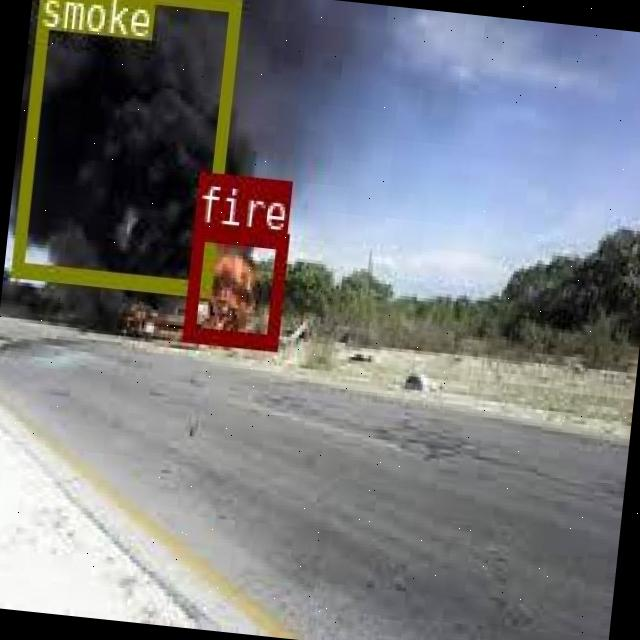fire: (182, 223, 284, 346)
smoke: (8, 0, 239, 293)
